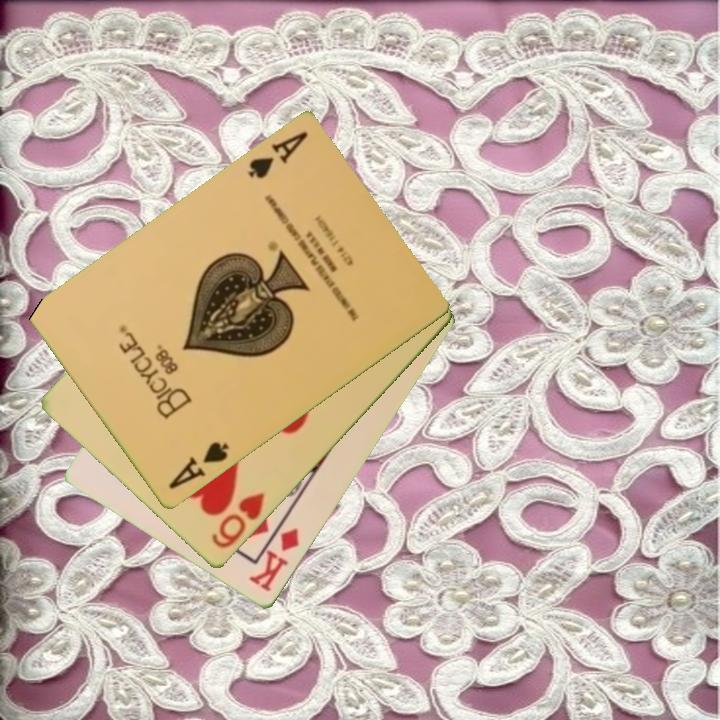6h: (208, 489, 268, 552)
As: (165, 438, 232, 493), (244, 128, 311, 183)
Kd: (245, 524, 303, 595)
